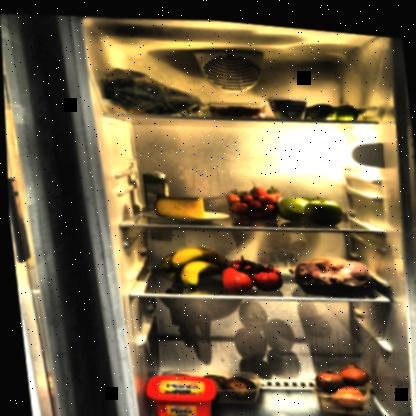apple: (275, 184, 345, 225)
banana: (154, 239, 231, 292)
butter: (139, 364, 220, 415)
cheese: (150, 188, 208, 221)
chicken: (285, 242, 376, 296)
heavy_cream: (139, 165, 171, 213)
lime: (303, 93, 363, 116)
onion: (310, 351, 378, 411)
potato: (194, 361, 261, 402)
shrimp: (205, 97, 265, 118)
spinach: (96, 57, 206, 121)
strawberries: (223, 177, 284, 219)
tomato: (213, 247, 284, 293)
